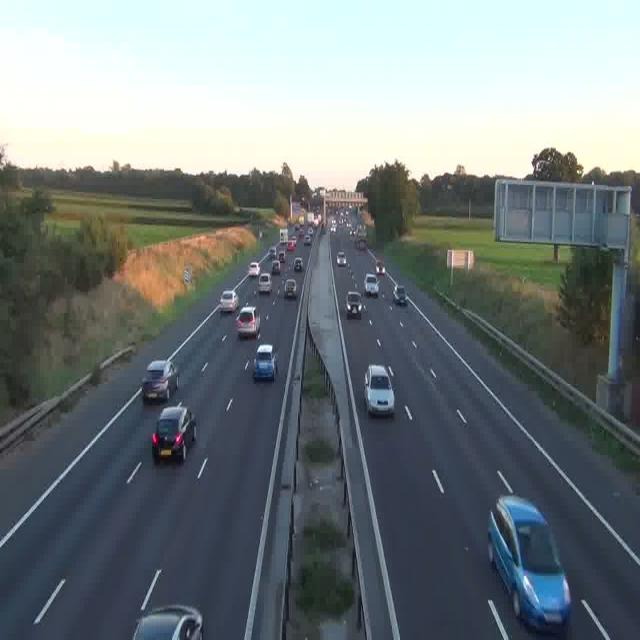car: (488, 494, 570, 635), (152, 404, 196, 464), (131, 605, 203, 640), (142, 360, 178, 404), (364, 365, 394, 416), (252, 343, 276, 381), (237, 306, 259, 338), (218, 289, 238, 312), (347, 290, 362, 317), (364, 275, 378, 297), (394, 285, 408, 306), (285, 278, 297, 297), (270, 260, 282, 276), (249, 260, 261, 274), (292, 256, 302, 271), (337, 252, 347, 266), (374, 260, 384, 274), (356, 238, 364, 249)
